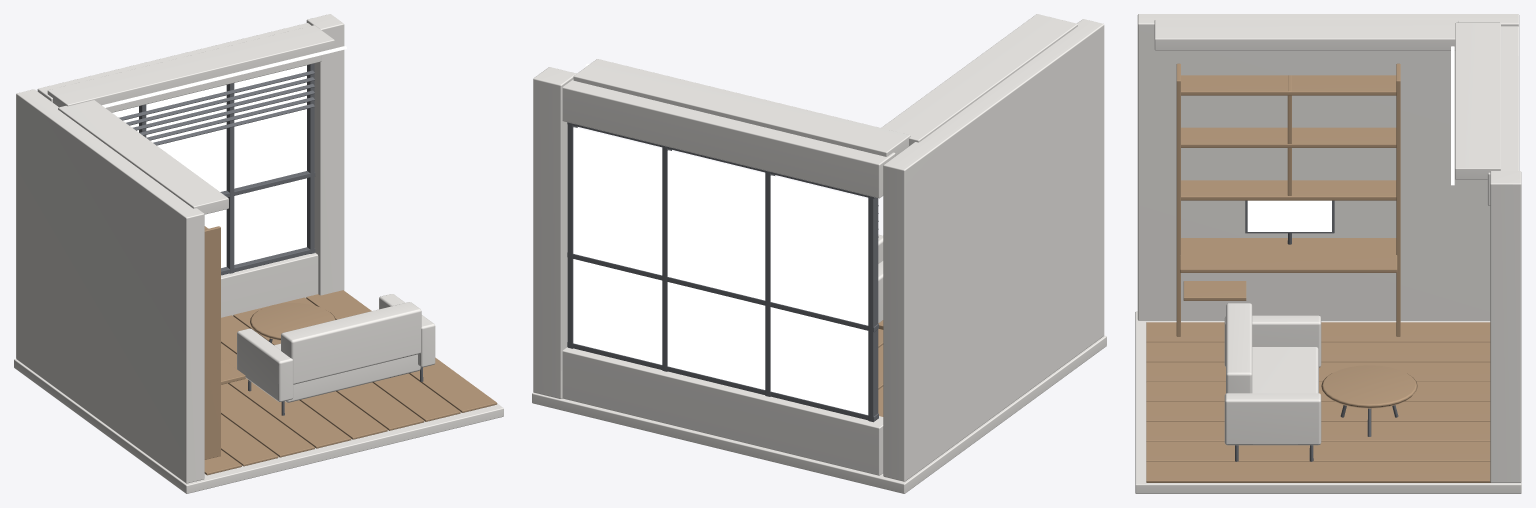
File: modern-officetel-studio-loft-bay-v14.glb
3 views of the same model, side by side, from view 1: azimuth 30°, elevation 25°; view 2: azimuth 150°, elevation 25°; view 3: azimuth 270°, elevation 25° (orthographic). The views are drawn at different scales.
Parts seen in each view (by area): view 1: StudioWallsAndSofa, StudioWalnutJoinery, StudioGlazingAndCoveLed, StudioBlackSteel; view 2: StudioWallsAndSofa, StudioGlazingAndCoveLed, StudioBlackSteel; view 3: StudioWallsAndSofa, StudioWalnutJoinery, StudioGlazingAndCoveLed, StudioBlackSteel.
Part boxes in pixels (<box>): StudioWallsAndSofa: <box>14,14,503,493</box>; StudioWalnutJoinery: <box>204,226,497,475</box>; StudioGlazingAndCoveLed: <box>102,46,346,267</box>; StudioBlackSteel: <box>119,63,423,415</box>; StudioWallsAndSofa: <box>532,14,1106,493</box>; StudioGlazingAndCoveLed: <box>573,63,868,414</box>; StudioBlackSteel: <box>567,122,878,422</box>; StudioWallsAndSofa: <box>1135,14,1521,493</box>; StudioWalnutJoinery: <box>1146,63,1490,482</box>; StudioGlazingAndCoveLed: <box>1247,46,1454,231</box>; StudioBlackSteel: <box>1235,200,1398,461</box>.
Bounding box in the file's own units: 3.4 × 2.85 × 3.2.
